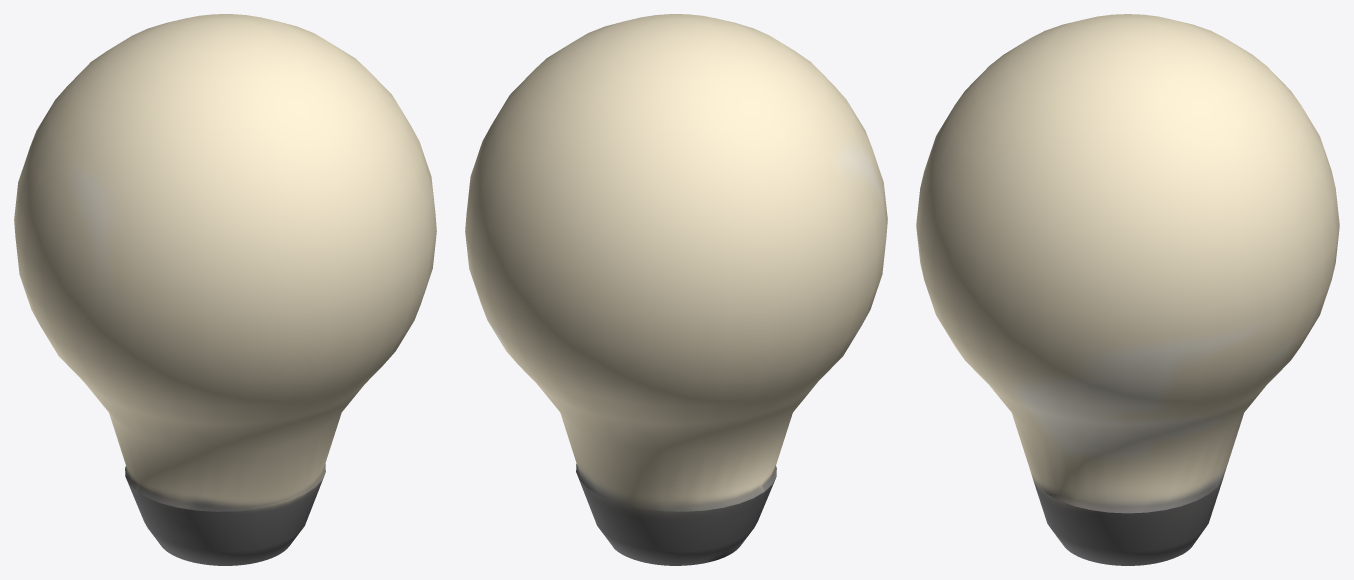
The model's file is light_bulp.glb.
The picture shows the model from 3 angles, left to right: view 1: azimuth 30°, elevation 25°; view 2: azimuth 150°, elevation 25°; view 3: azimuth 270°, elevation 25°; orthographic projection.
Visible parts, largest first — view 1: Sphere.001; view 2: Sphere.001; view 3: Sphere.001.
Boxes of the visible parts, x1,y1,x2,y2 form: Sphere.001: (14, 14, 436, 565); Sphere.001: (465, 14, 887, 565); Sphere.001: (916, 14, 1339, 565).
Size of the model in its own units: 2 by 2.68 by 2.
1 material, 1 textured.
